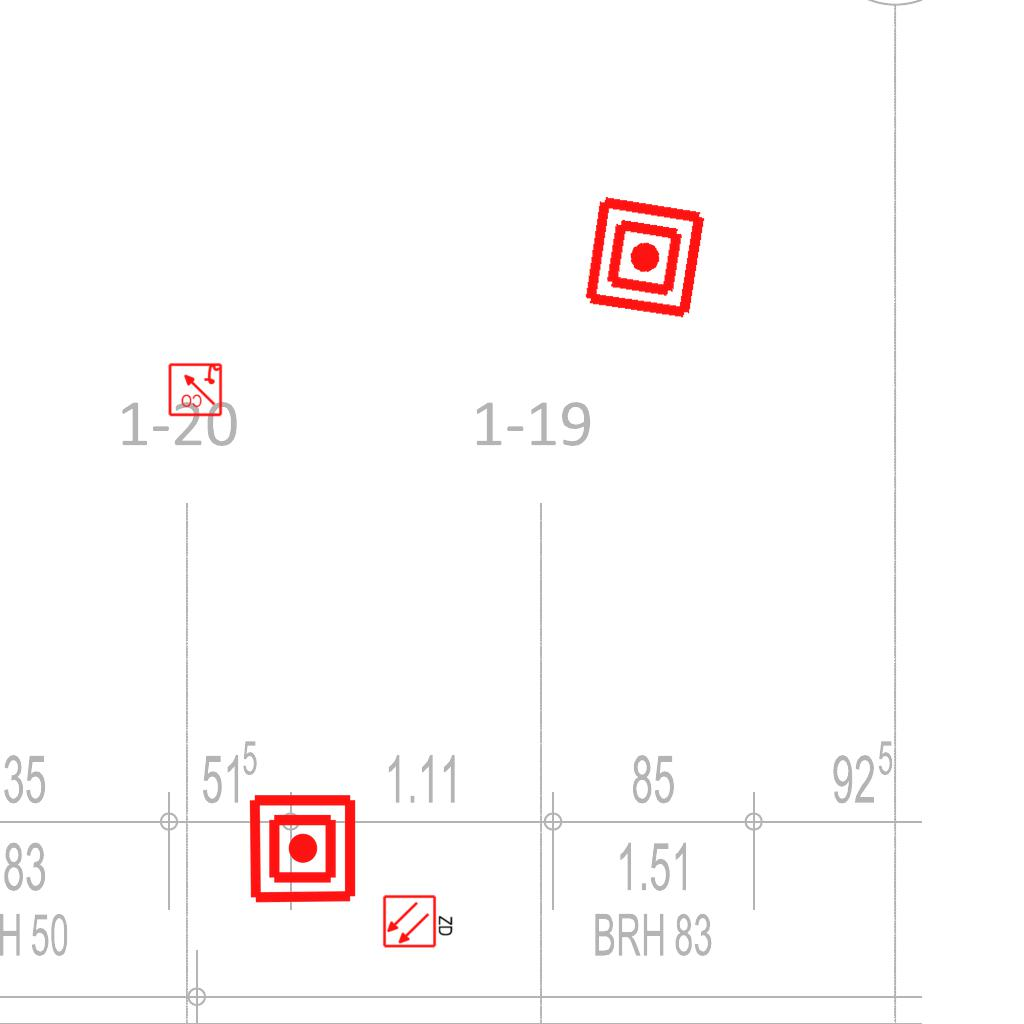NAM-Nichtautomatischer_Melder: (579, 192, 710, 323), (246, 792, 359, 905)
ROA_Rauchmelder_optisch_mit_Signalgeber_(Sockelsirene): (167, 361, 223, 417)
ZD_Melder_in_Zwischendecke_mit_Revisionsoeffnung_mind_40_x_40_cm: (382, 892, 456, 949)
